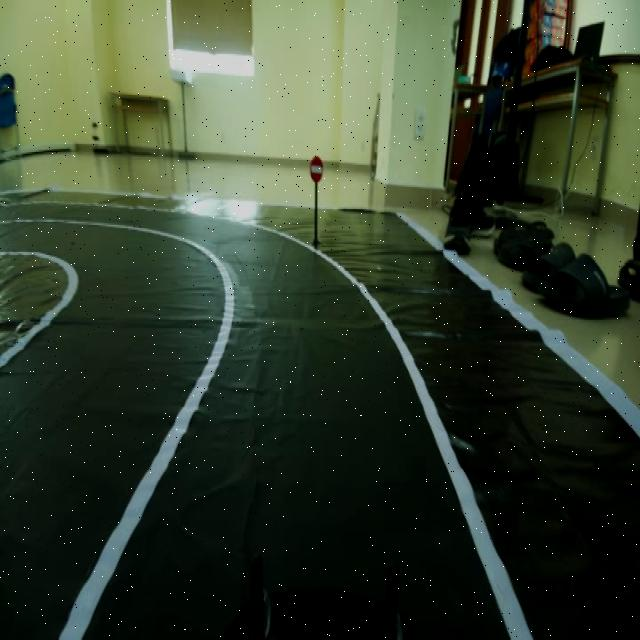no_entry: (304, 146, 328, 190)
